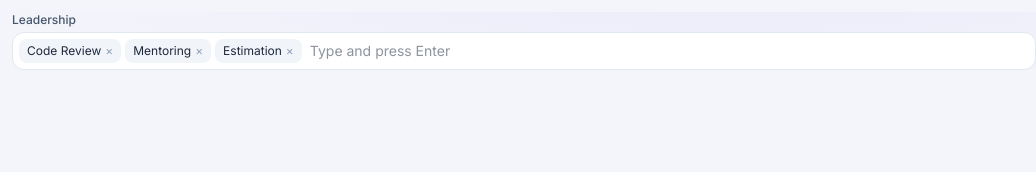
it: list input inside a label › still adds with Enter and removes with ×
The width and height of the screenshot is (1036, 172).
Type "Hiring" into the field labelled "Leadership" at (667, 51), box top-left (306, 39), bottom-right (1029, 63)
Then press Enter
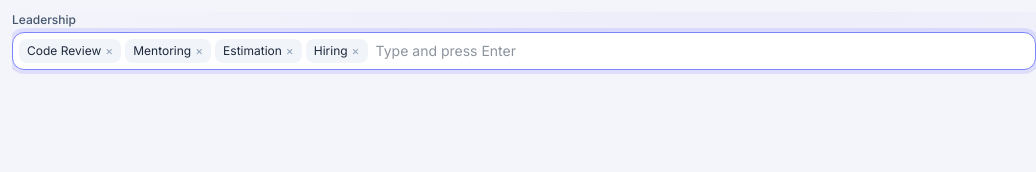
Now the text "Hiring" is shown, box top-left (314, 43), bottom-right (348, 58)
Click the button named "Remove Mentoring" at (199, 51), box top-left (195, 43), bottom-right (203, 59)
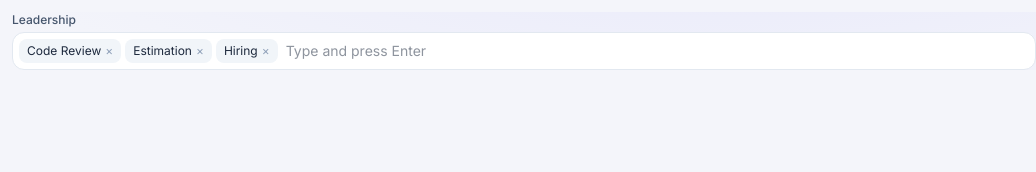
Now the text "Mentoring" is gone
Now the number of buttons named "Remove " is 3, box top-left (105, 43), bottom-right (113, 59); top-left (196, 43), bottom-right (204, 59); top-left (262, 43), bottom-right (270, 59)
